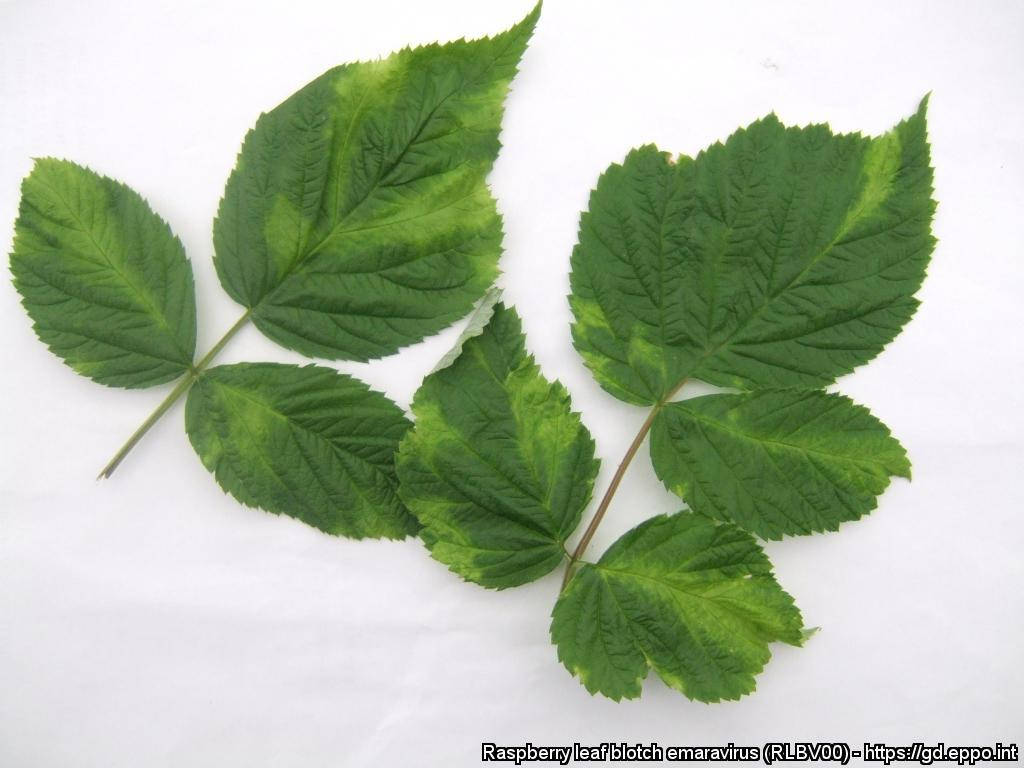Raspberry leaf: (211, 1, 558, 379), (677, 93, 949, 393), (386, 305, 604, 589), (171, 361, 444, 560), (550, 509, 820, 704), (6, 147, 198, 391), (647, 382, 915, 542), (565, 141, 703, 396)
